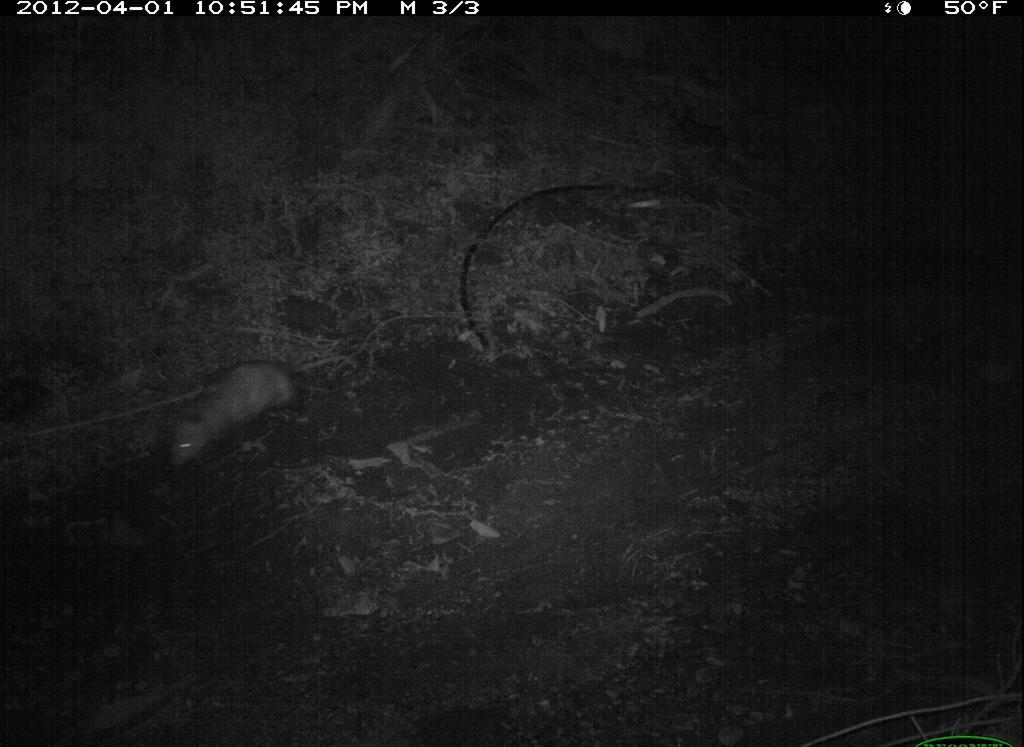opossum: (159, 344, 347, 482)
